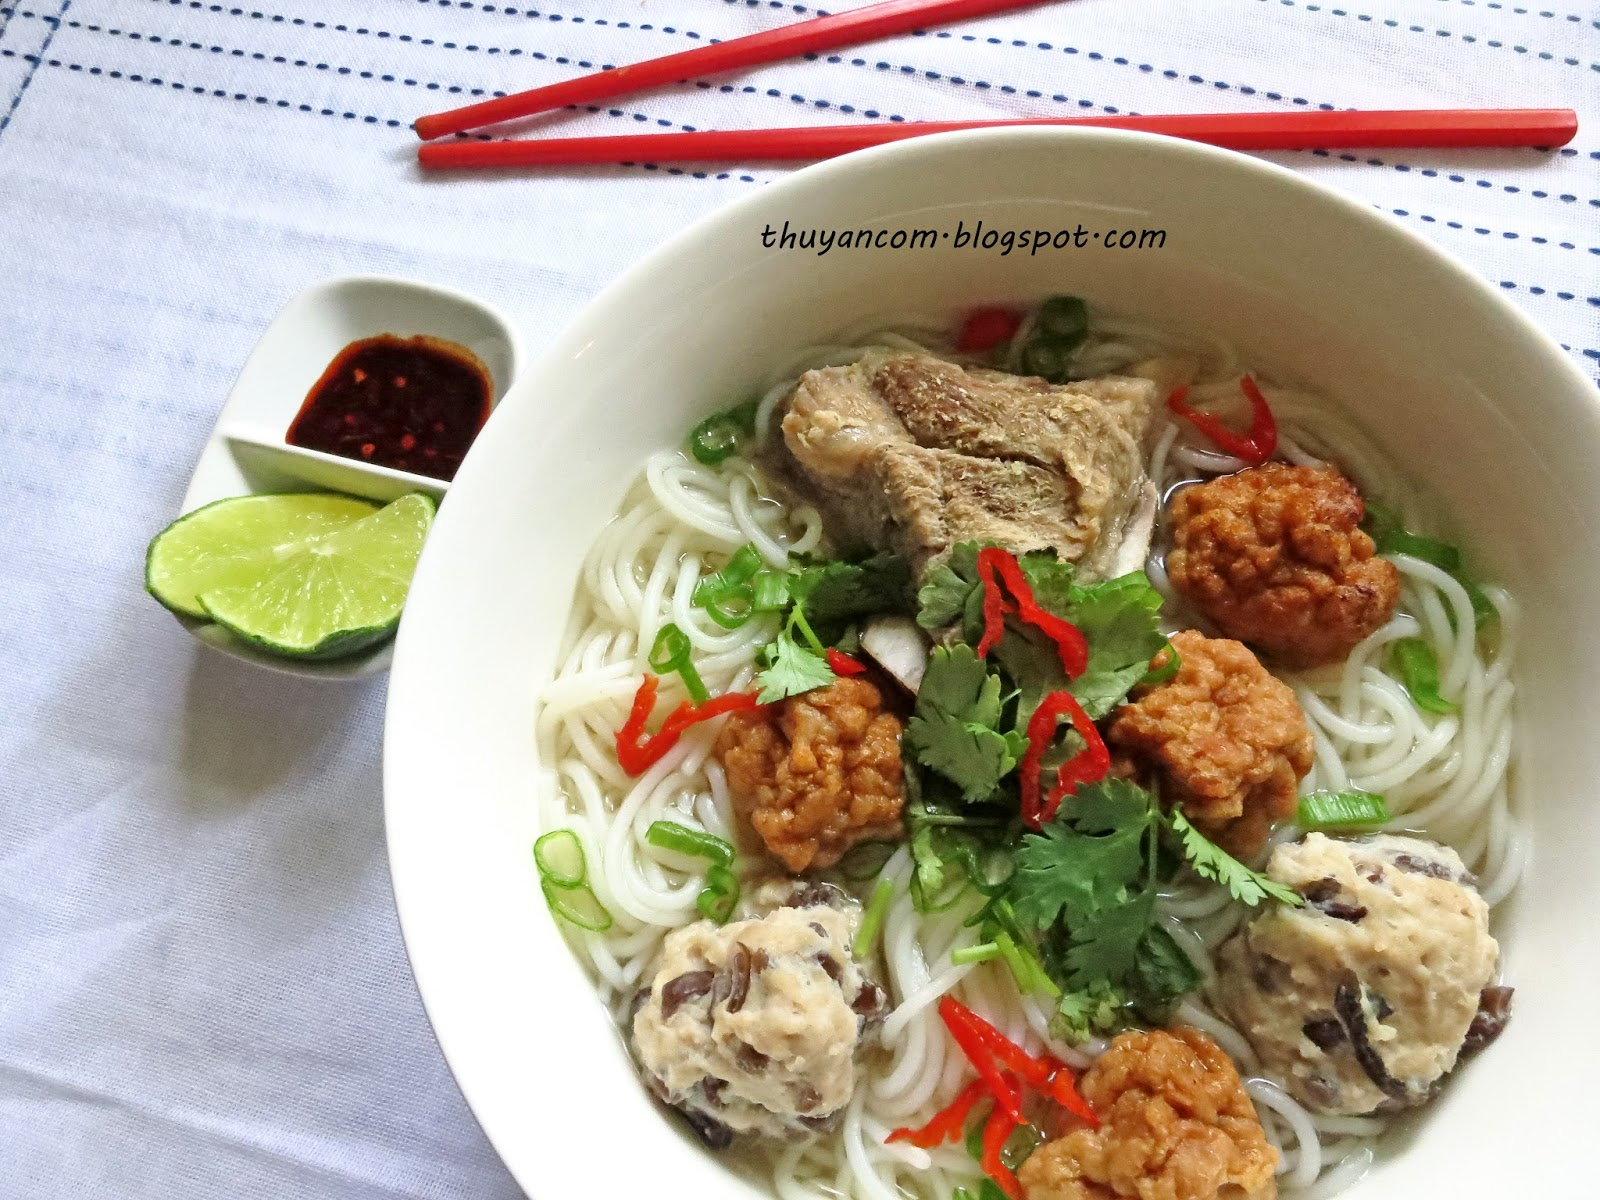chamoc: (1238, 846, 1487, 1075), (637, 895, 871, 1127)
chilli: (929, 993, 1070, 1129), (966, 543, 1080, 679), (1031, 693, 1095, 821), (630, 682, 758, 732)
pork: (789, 371, 1150, 557)
